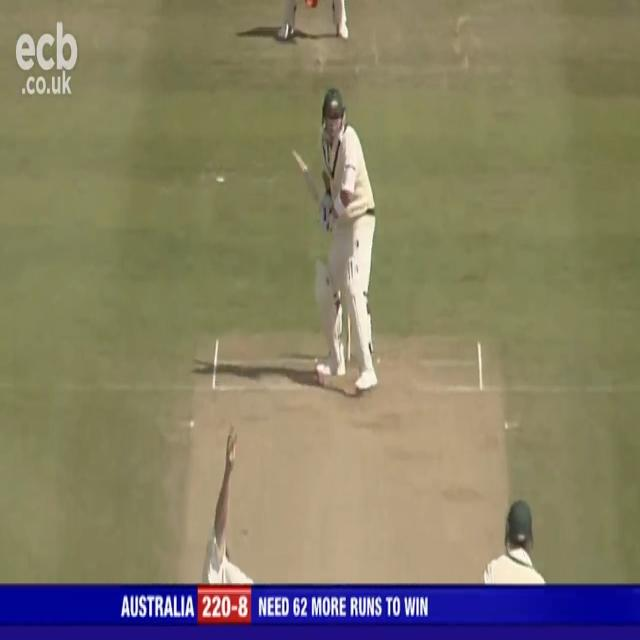ball: (314, 367, 328, 394)
